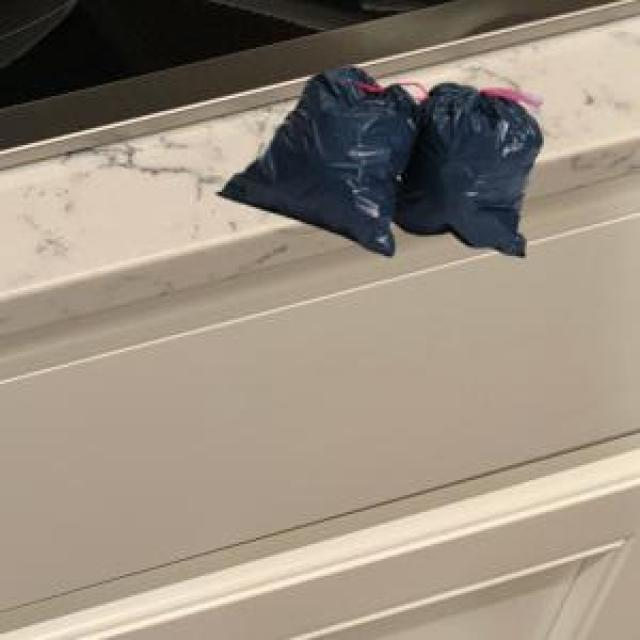Vinyl: (220, 69, 542, 256)
